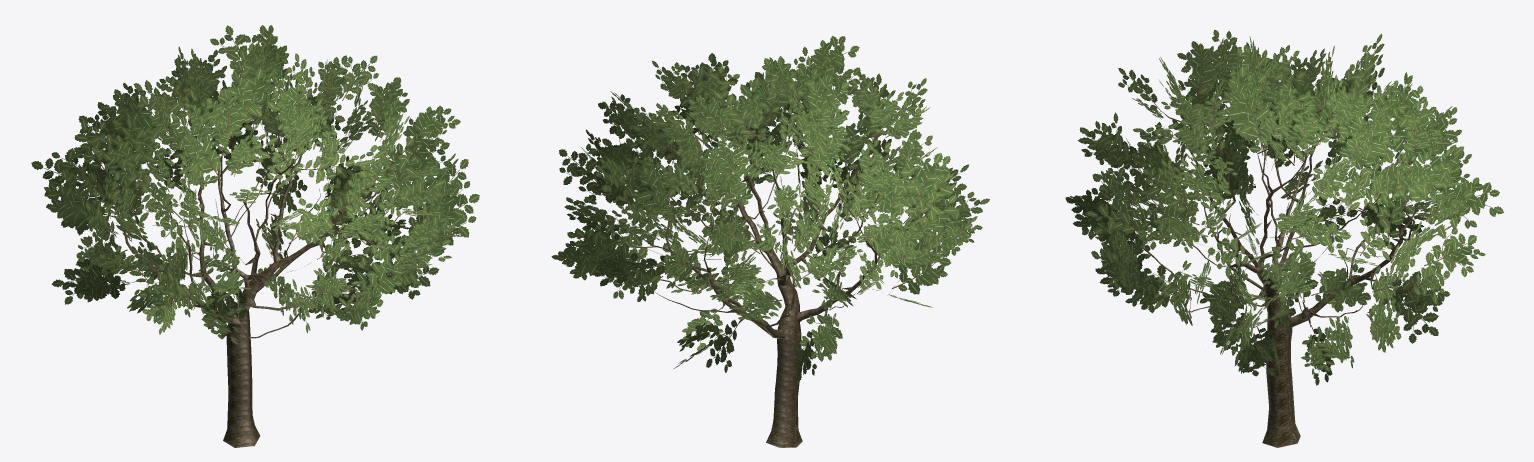
File: Forest_Tree_Reduced.fbx
The picture shows the model from 3 angles, left to right: view 1: azimuth 30°, elevation 25°; view 2: azimuth 150°, elevation 25°; view 3: azimuth 270°, elevation 25°; orthographic projection. The views are drawn at different scales.
Parts seen in each view (by area): view 1: Forest_Tree_Reduced; view 2: Forest_Tree_Reduced; view 3: Forest_Tree_Reduced.
Part boxes in pixels (x1,y1,x2,y2): Forest_Tree_Reduced: (31,25,479,447); Forest_Tree_Reduced: (551,36,989,447); Forest_Tree_Reduced: (1065,29,1503,447).
Size of the model in its own units: 1718 by 1568 by 1664.
